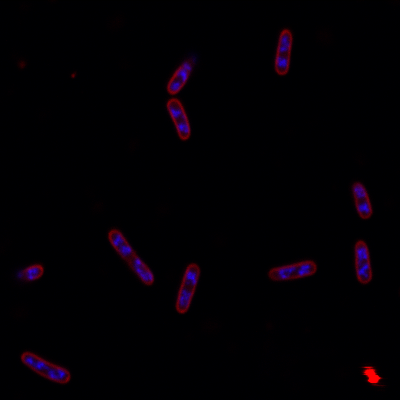Control: (107, 227, 157, 287), (20, 348, 72, 384), (171, 262, 202, 314), (166, 95, 192, 142), (264, 259, 319, 281), (351, 237, 375, 284), (349, 181, 375, 221), (274, 28, 294, 77)
Oblique: (165, 50, 199, 94), (9, 263, 48, 286)
